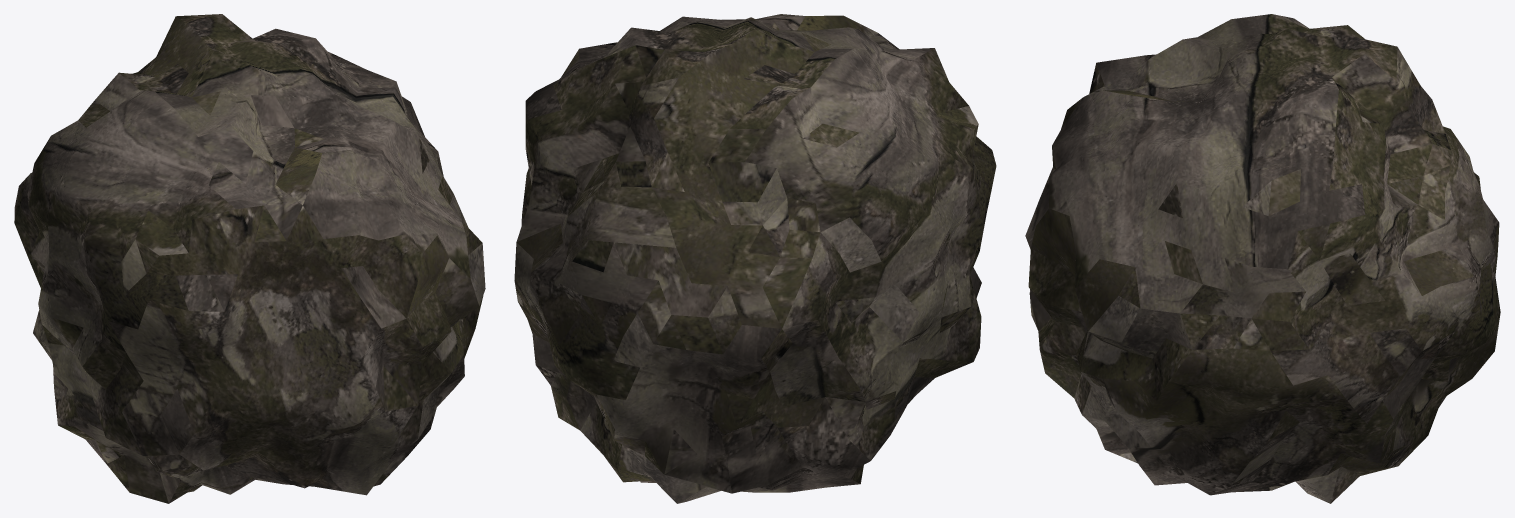
Rendered from asteroid_3.glb.
3 renders of one model, left to right at view 1: azimuth 30°, elevation 25°; view 2: azimuth 150°, elevation 25°; view 3: azimuth 270°, elevation 25°, orthographic. The views are drawn at different scales.
Parts seen in each view (by area): view 1: Asteroid3; view 2: Asteroid3; view 3: Asteroid3.
Part boxes in pixels (left/top/right/bottom): Asteroid3: left=14, top=14, right=485, bottom=503; Asteroid3: left=514, top=14, right=996, bottom=503; Asteroid3: left=1025, top=14, right=1500, bottom=503.
Bounding box in the file's own units: 2.09 × 2.23 × 2.21.
1 material, 1 textured.
